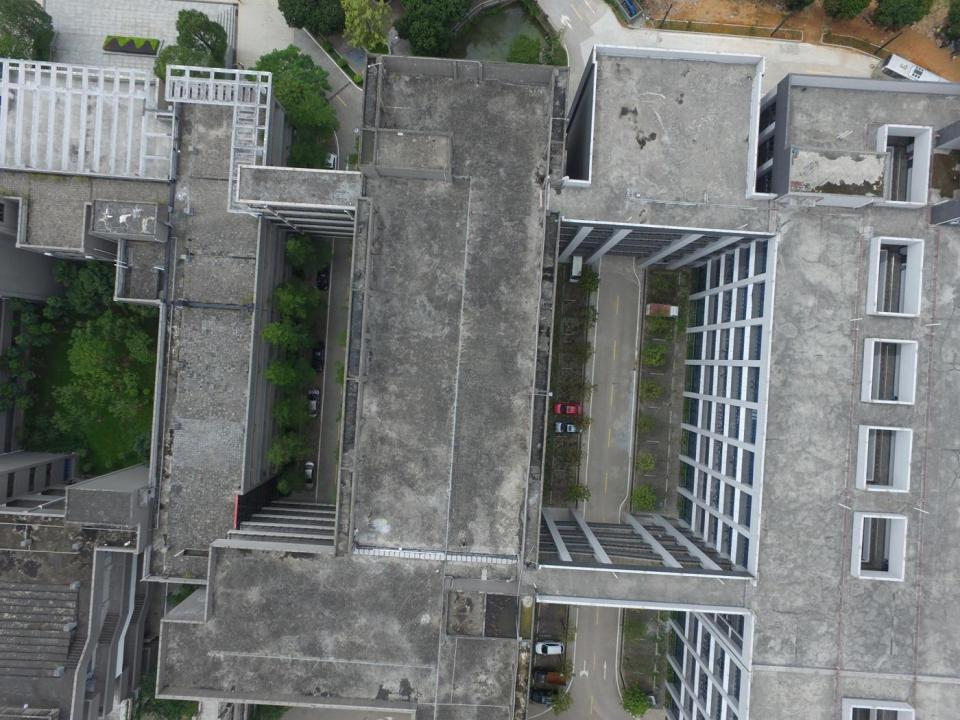bus: (872, 56, 945, 89)
car: (530, 687, 560, 708), (625, 691, 657, 710), (315, 259, 332, 292), (535, 639, 565, 657), (553, 399, 581, 418), (310, 340, 326, 372), (305, 385, 320, 419), (554, 420, 583, 436), (302, 461, 316, 490)
truck: (532, 666, 568, 687), (642, 300, 680, 319), (568, 255, 583, 283)
